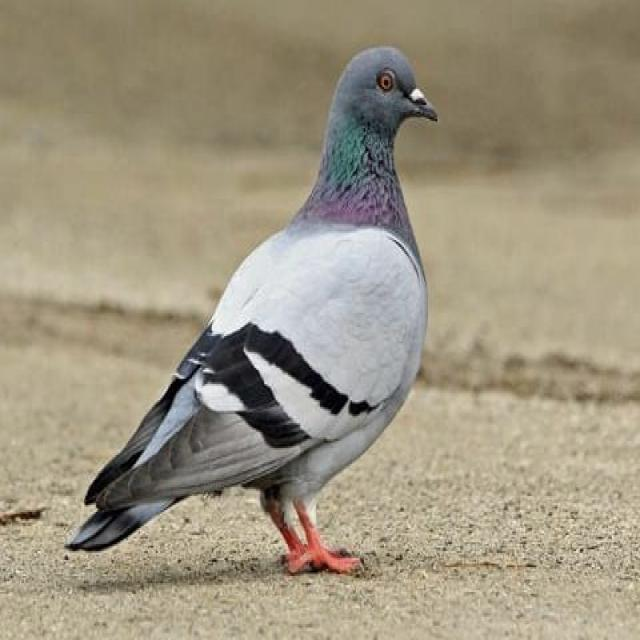pigeon: (67, 46, 437, 571)
